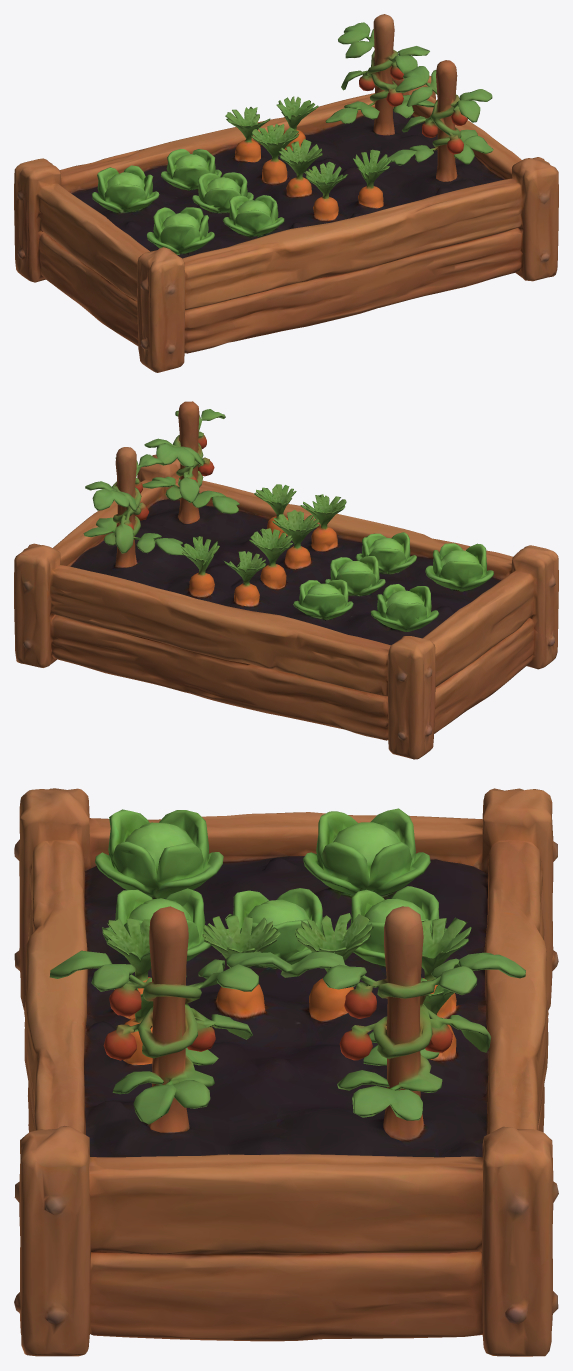
File: 37-horta.glb
The picture shows the model from 3 angles, top to bottom: view 1: azimuth 30°, elevation 25°; view 2: azimuth 150°, elevation 25°; view 3: azimuth 270°, elevation 25°; orthographic projection. The views are drawn at different scales.
Parts seen in each view (by area): view 1: tripo_node_dab92bd4-e443-4d99-bfc7-8f693144a2ff; view 2: tripo_node_dab92bd4-e443-4d99-bfc7-8f693144a2ff; view 3: tripo_node_dab92bd4-e443-4d99-bfc7-8f693144a2ff.
Part boxes in pixels (box(x1,y1,x2,y2)): tripo_node_dab92bd4-e443-4d99-bfc7-8f693144a2ff: box(14, 14, 558, 372); tripo_node_dab92bd4-e443-4d99-bfc7-8f693144a2ff: box(14, 401, 558, 759); tripo_node_dab92bd4-e443-4d99-bfc7-8f693144a2ff: box(14, 788, 558, 1356).
Size of the model in its own units: 1 by 0.4716 by 0.6092.
Materials: 1 (1 with a texture image).
